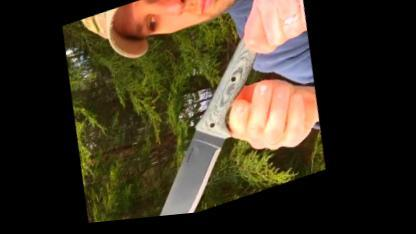knife: (122, 79, 276, 222)
